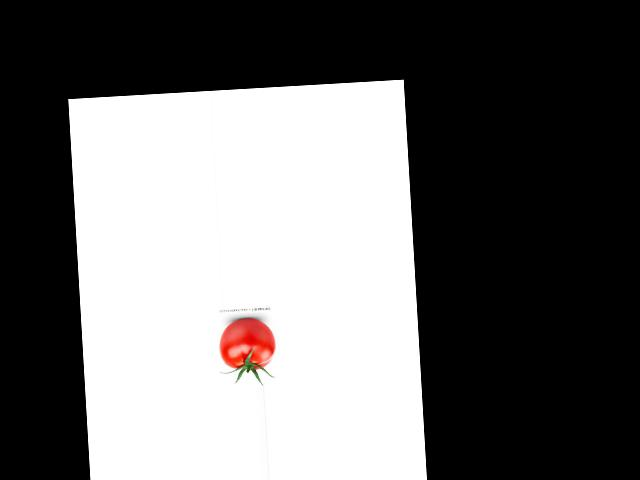tomato: (218, 317, 277, 371)
